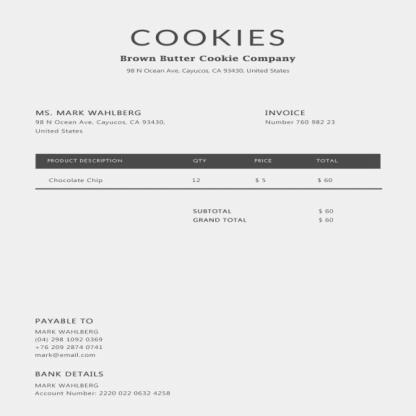Paragraph: (118, 26, 297, 76), (33, 370, 172, 396), (34, 109, 166, 134), (32, 318, 104, 359), (191, 207, 336, 225), (264, 110, 335, 125)
Table: (35, 154, 382, 188)
